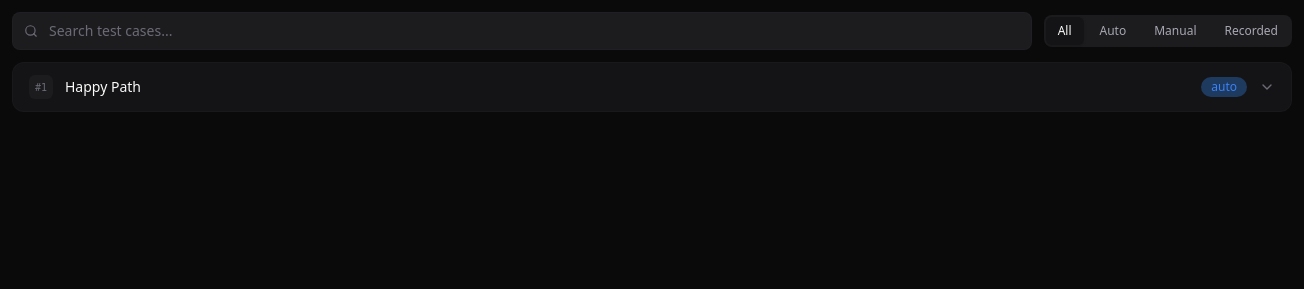
Test case: TestCasesPanel › shows expected behavior when expanded
This screenshot has width=1304, height=289.
Step 1. Click the text "Happy Path" → (103, 86), box [65, 77, 141, 96]
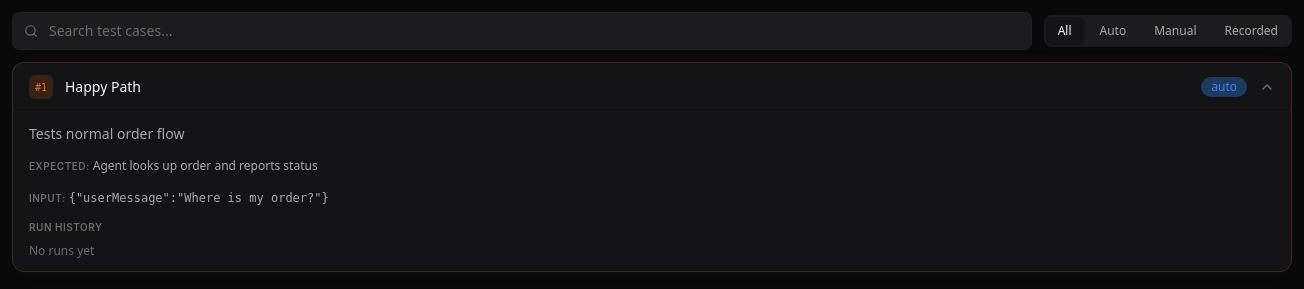
Check: the text "Agent looks up order and reports status" is shown, box [93, 157, 318, 174]
